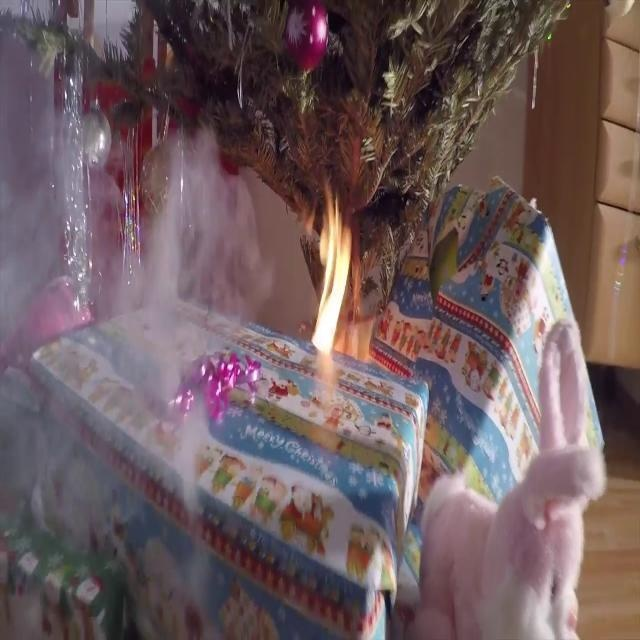smoke: (3, 199, 193, 483)
